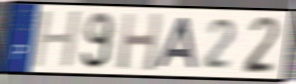2: (242, 15, 281, 75), (201, 17, 240, 71)
9: (80, 10, 116, 71)
A: (154, 15, 198, 70)
H: (30, 9, 83, 70), (116, 11, 164, 74)
